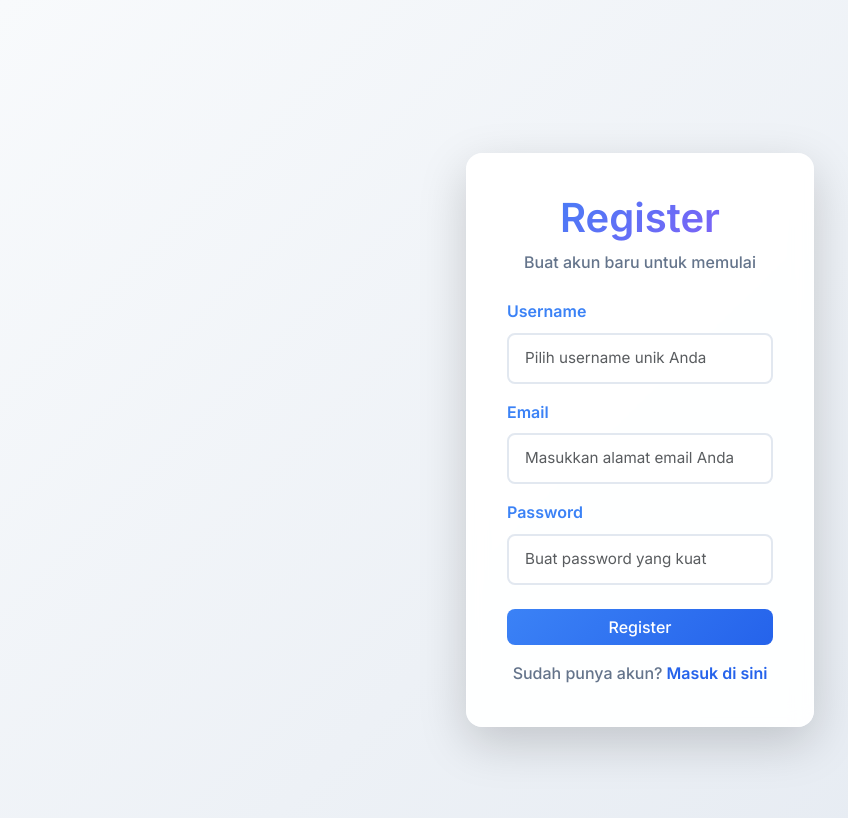
Scenario: Register Component › shows error when username is empty
In the field labelled "Email": (640, 459) top-left (507, 433), bottom-right (773, 484), type "test@example.com"
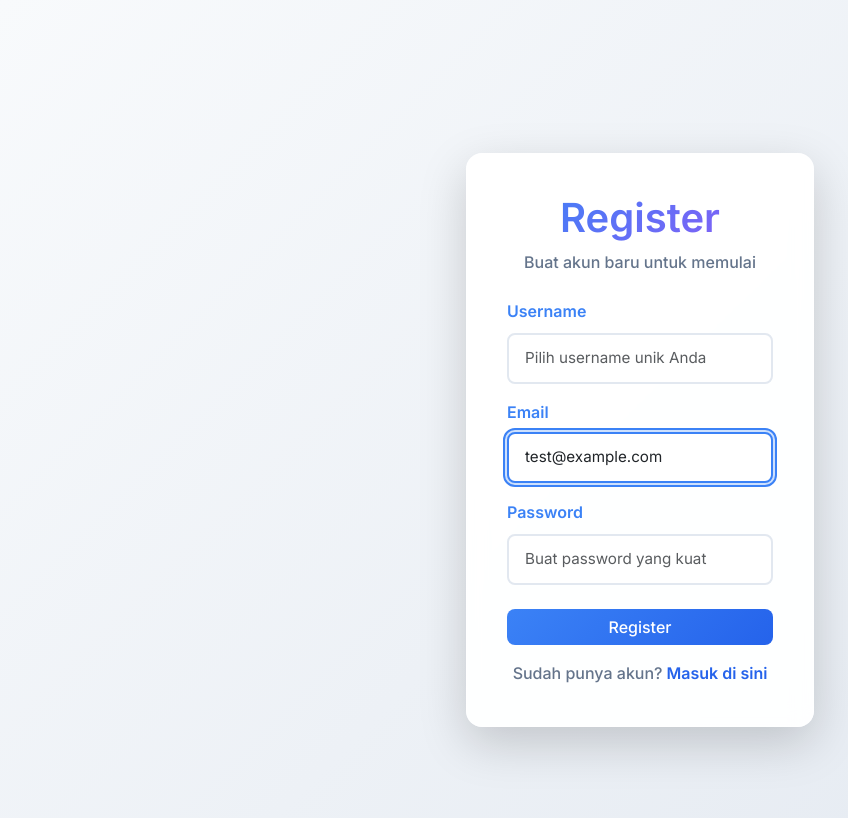
In the password field labelled "Password": (640, 559) top-left (507, 534), bottom-right (773, 585), type "password123"
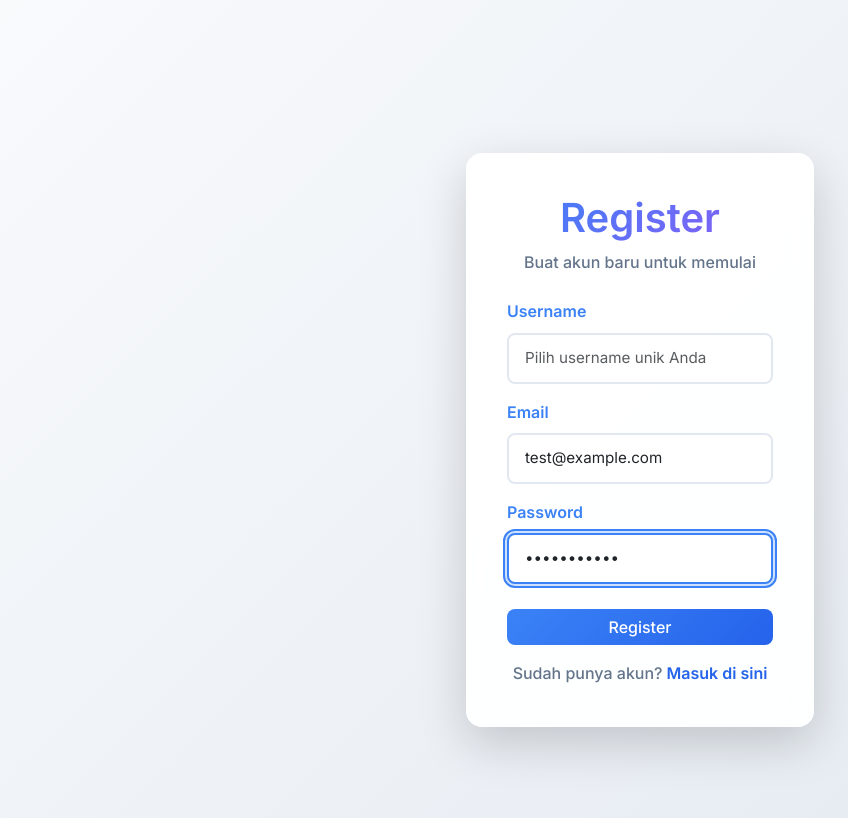
Click the button "Register": (640, 627) top-left (507, 609), bottom-right (773, 645)
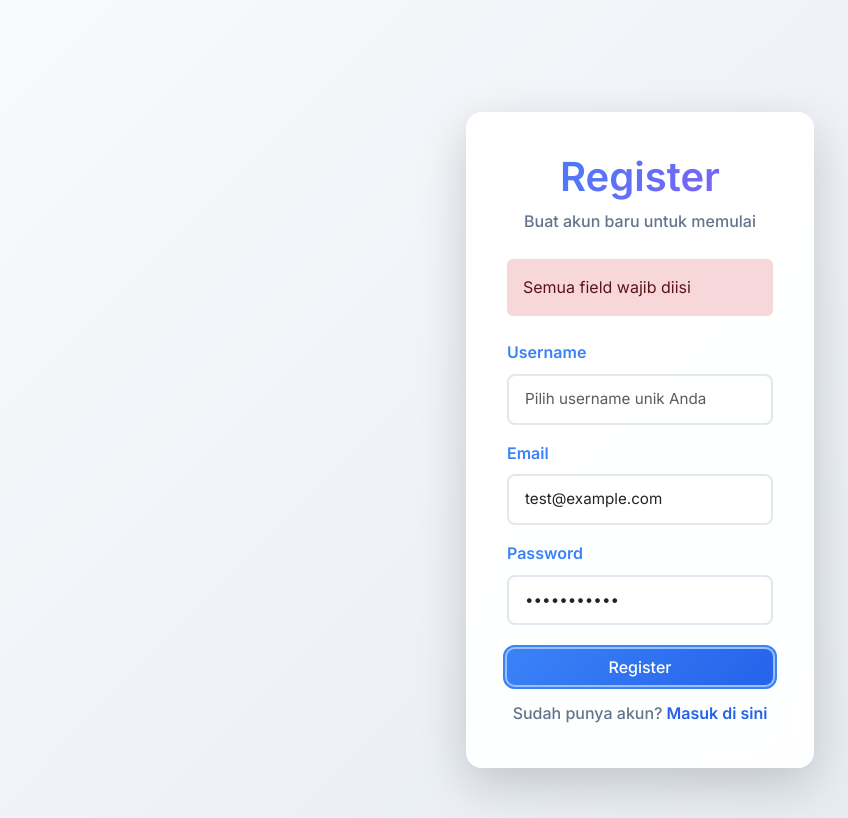
expect the text "Semua field wajib diisi" is shown: met, box top-left (507, 259), bottom-right (773, 316)
